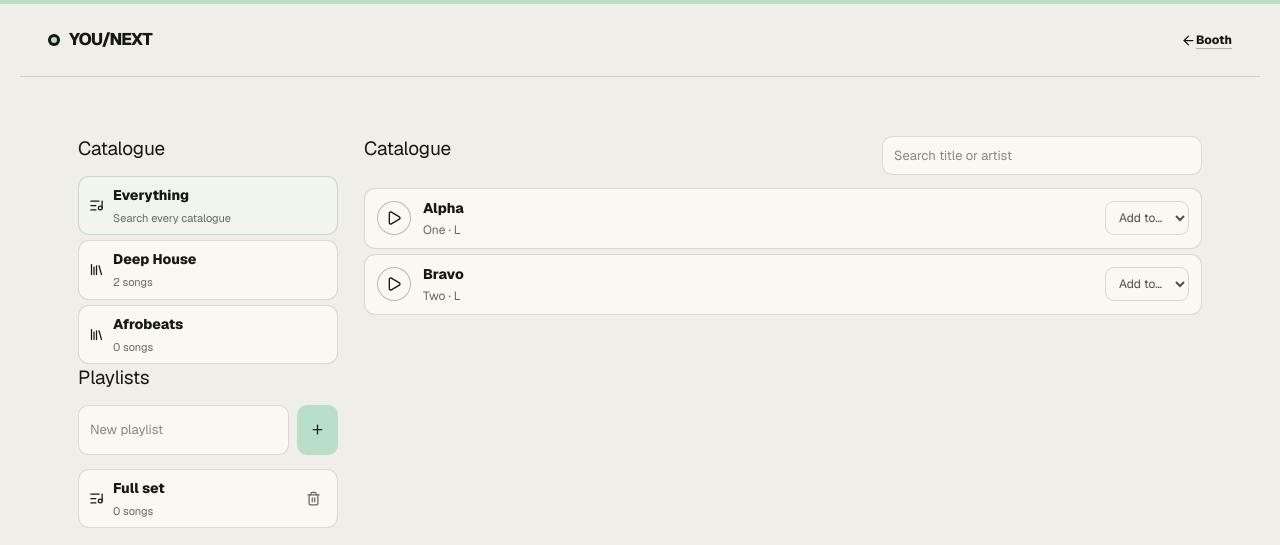
Scenario: browsing a catalogue in /play › adds a whole library to a playlist with the super-admin credential
The image size is (1280, 545).
Click the button "Deep House 2 songs" at [208, 270], box [89, 249, 327, 290]
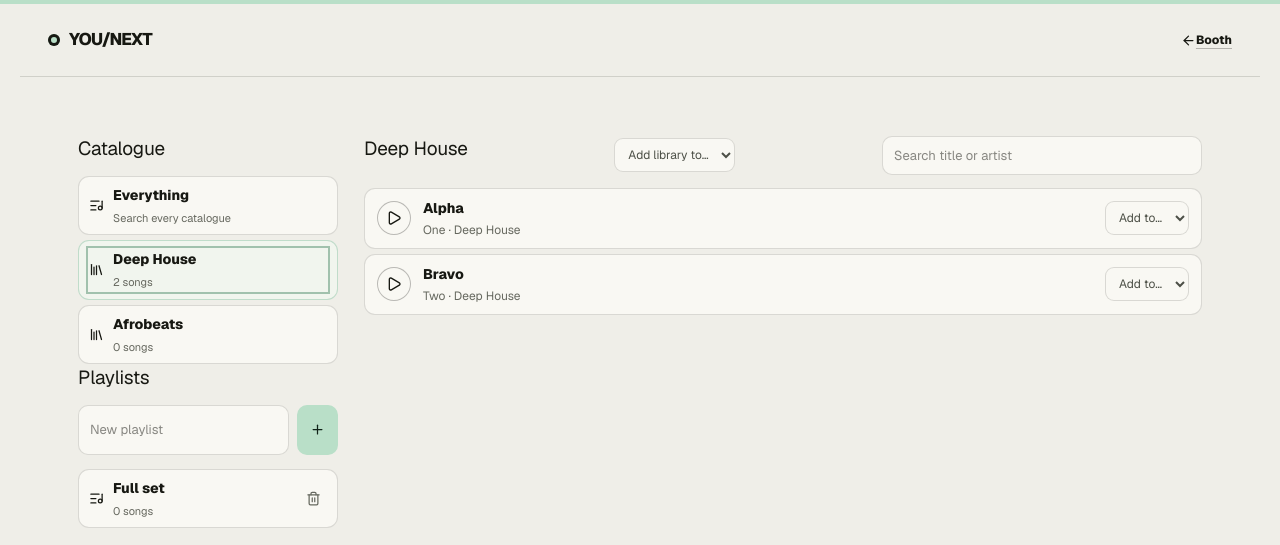
Select "Full set" in the dropdown named "Add all songs from Deep House to a playlist" at [675, 155], box [614, 138, 735, 172]
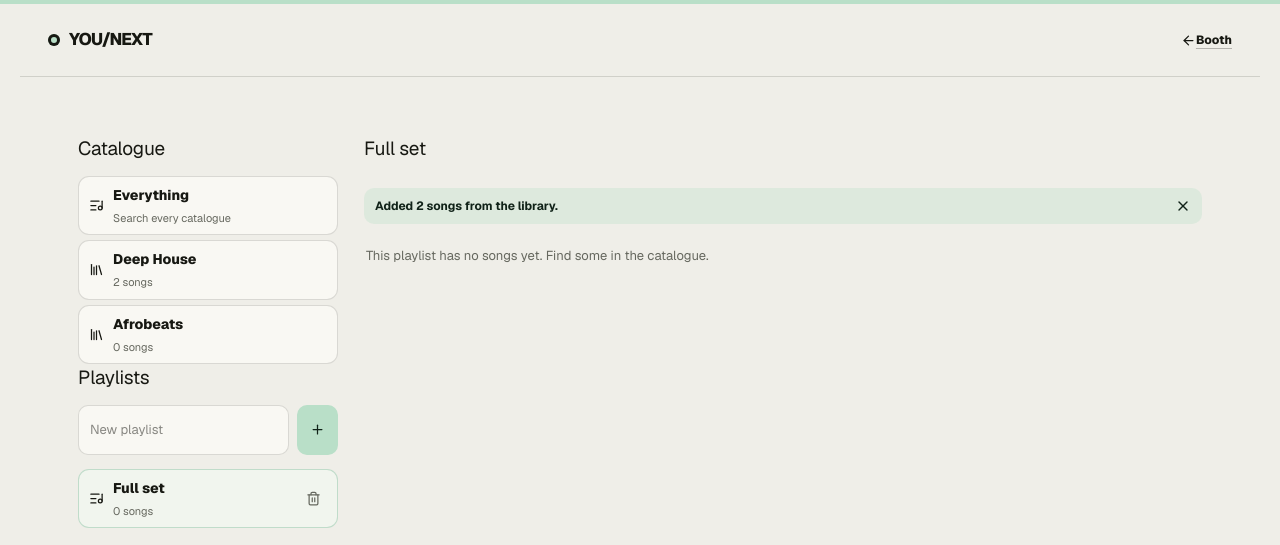
Expected: the message reads "Added 2 songs from the library.", [375, 198, 558, 214]
Click the button "Everything Search every catalogue" at [208, 205], box [89, 184, 327, 226]
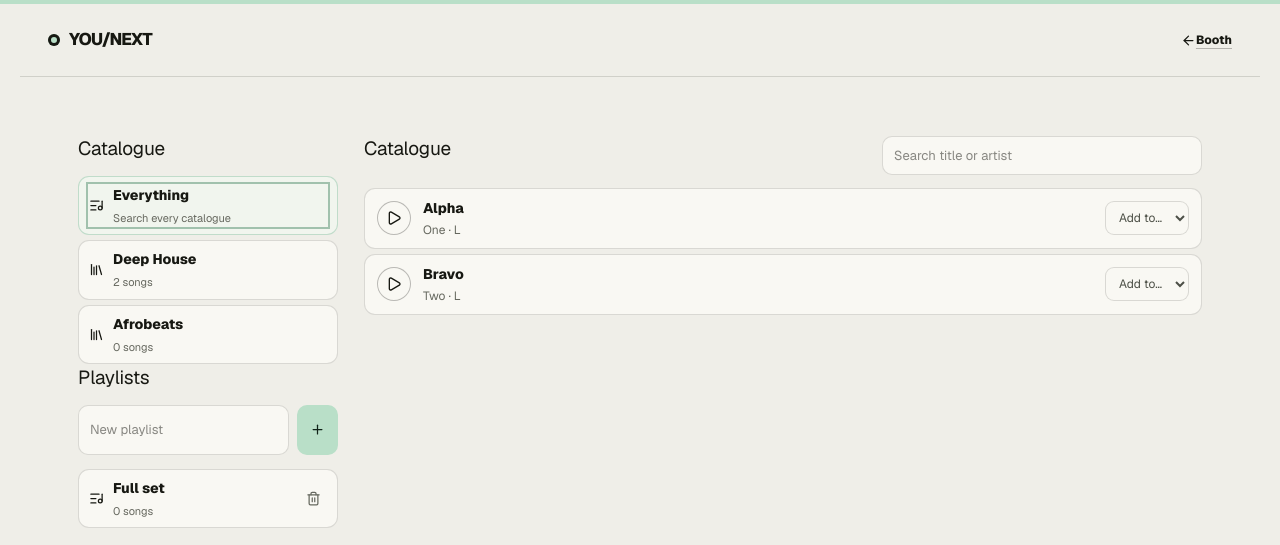
Expected: the message "Added 2 songs from the library." is gone
